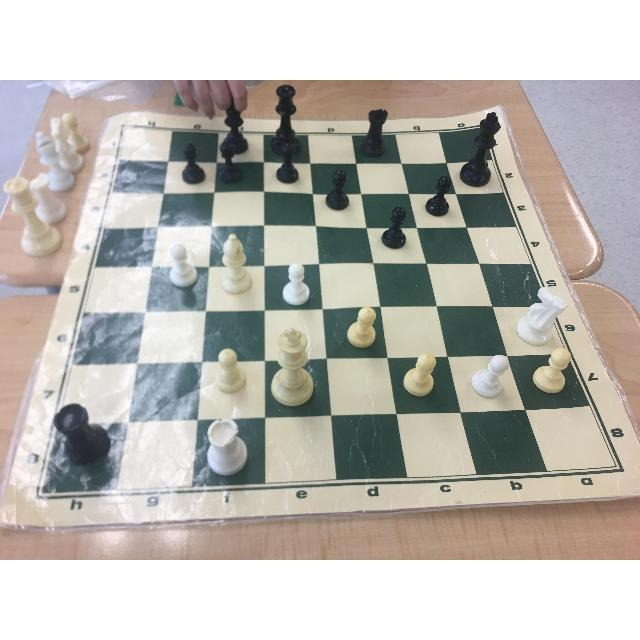black-bishop: (219, 98, 252, 147)
black-king: (459, 101, 503, 187)
black-pawn: (320, 155, 359, 215), (374, 200, 414, 250), (421, 166, 457, 217), (213, 134, 248, 182), (176, 142, 212, 188), (273, 138, 305, 187)
black-queen: (268, 82, 314, 151)
black-rook: (57, 401, 109, 461), (359, 109, 392, 151)
white-bishop: (212, 229, 261, 301)
white-king: (270, 325, 326, 417)
white-knight: (506, 278, 572, 342)
white-pawn: (458, 342, 510, 405), (393, 343, 444, 406), (520, 347, 577, 402), (341, 301, 387, 355), (160, 236, 202, 293), (278, 252, 315, 313), (209, 348, 250, 395)
white-rook: (193, 415, 255, 477)
